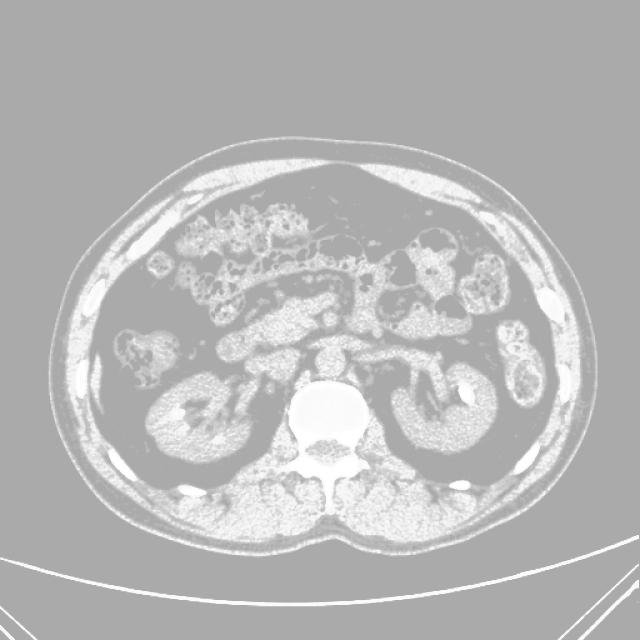STONE: (150, 280, 527, 495)
